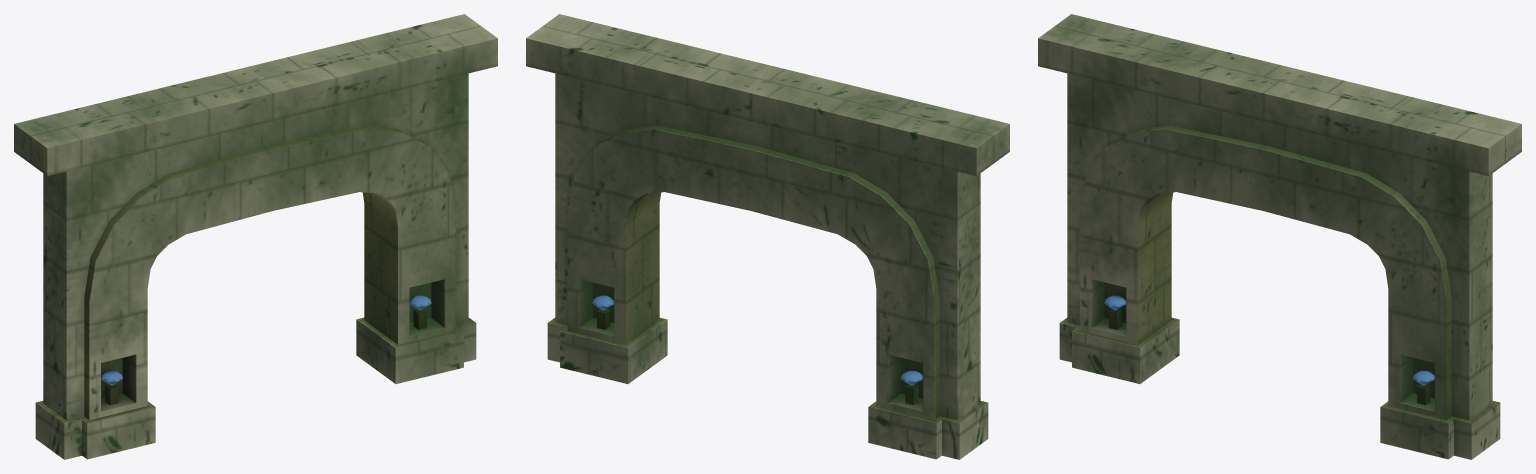
File: Wide Arched Gate.fbx
3 views of the same model, side by side, from view 1: azimuth 30°, elevation 25°; view 2: azimuth 150°, elevation 25°; view 3: azimuth 330°, elevation 25° (orthographic).
Parts seen in each view (by area): view 1: Wide Arched Gate; view 2: Wide Arched Gate; view 3: Wide Arched Gate.
Boxes of the visible parts, x1,y1,x2,y2 form: Wide Arched Gate: (14, 14, 497, 459); Wide Arched Gate: (526, 14, 1009, 459); Wide Arched Gate: (1038, 14, 1521, 459).
Bounding box in the file's own units: 758 × 511 × 115.
1 material, 1 textured.
